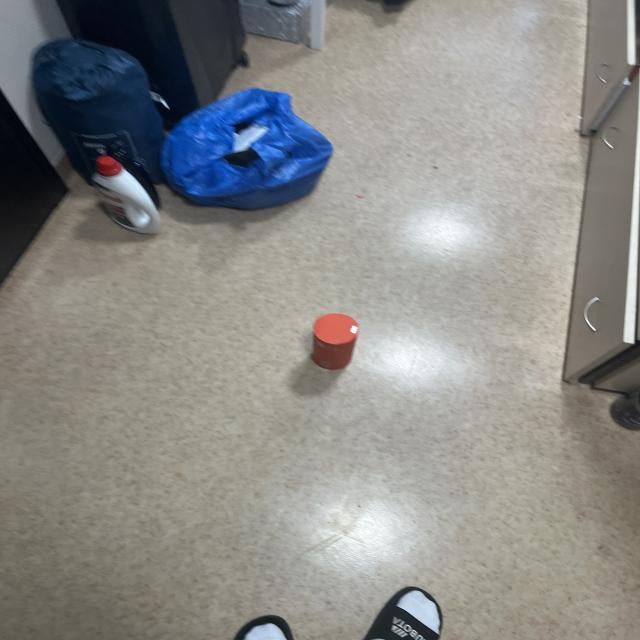przeszkoda: (312, 313, 359, 370)
